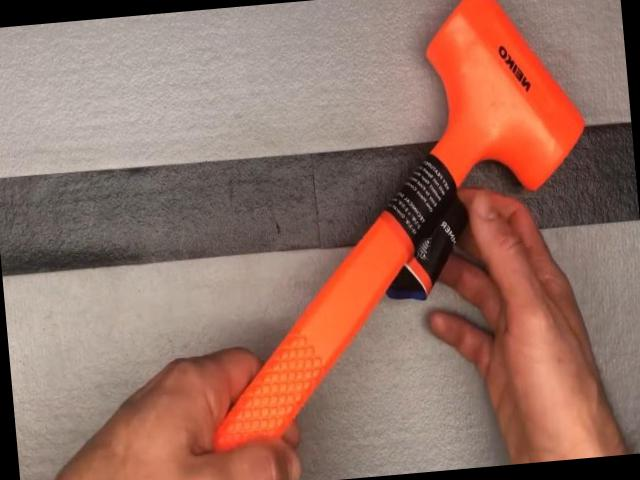hammer: (129, 0, 613, 480)
